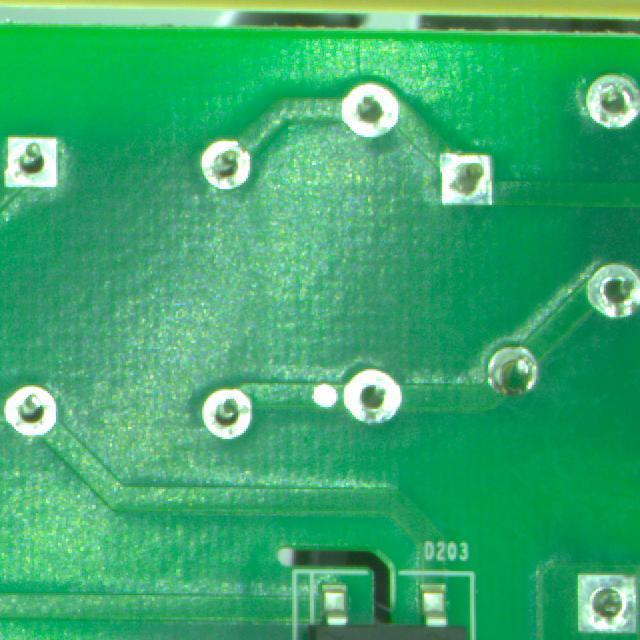Insufficient solder: (325, 74, 424, 165), (434, 147, 518, 234), (2, 132, 72, 197), (341, 365, 410, 429), (581, 70, 640, 144), (190, 134, 264, 192), (2, 381, 62, 439), (196, 386, 258, 442), (587, 259, 640, 324)
